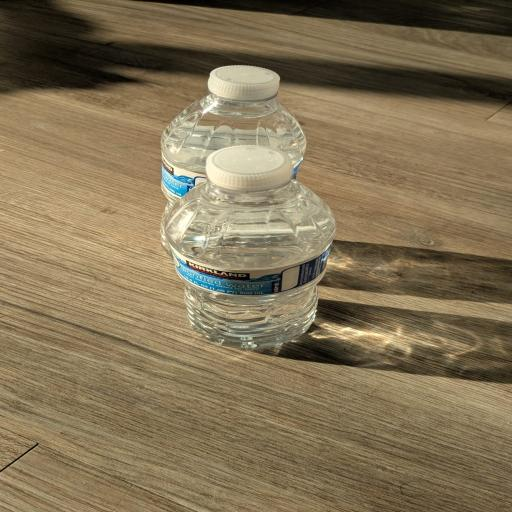waterbottle: (165, 146, 335, 348), (161, 66, 306, 222)
